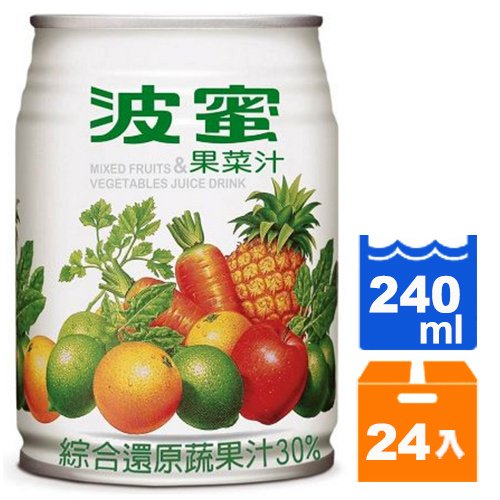vegetables juice: (10, 61, 333, 486)
